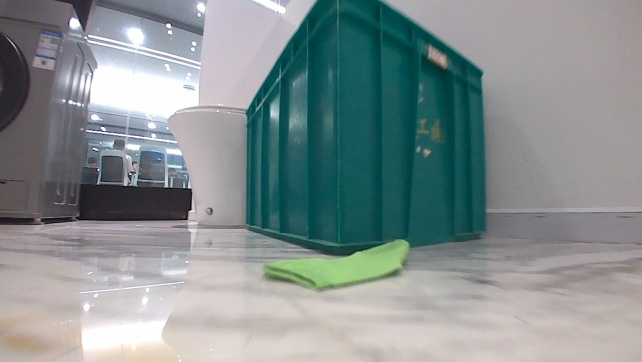socks: (258, 236, 411, 294)
toilet: (158, 103, 248, 226)
washing_machine1: (0, 0, 99, 225)
